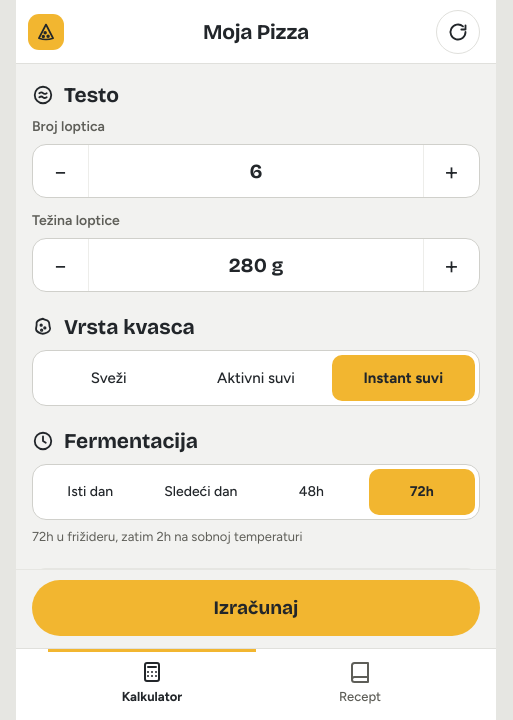
Calculator → Quantities › the back button returns to the Calculator
The width and height of the screenshot is (513, 720).
Click the button "Izračunaj" at (256, 608), box [32,580,480,636]
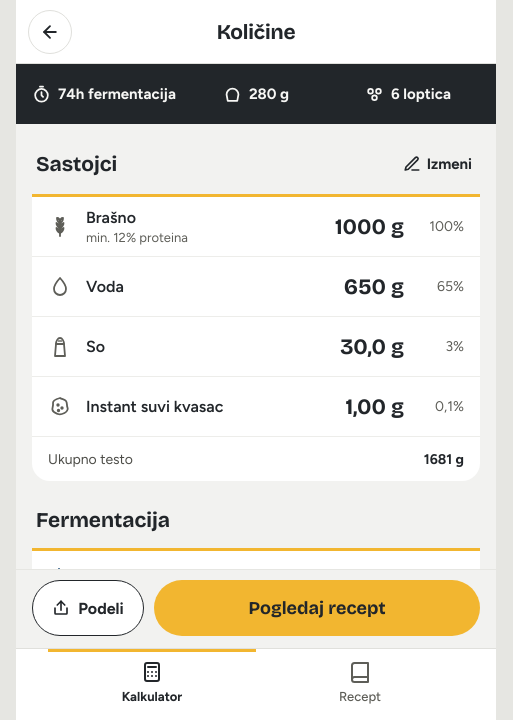
Click the link named "Nazad na kalkulator" at (50, 32), box [28,10,72,54]
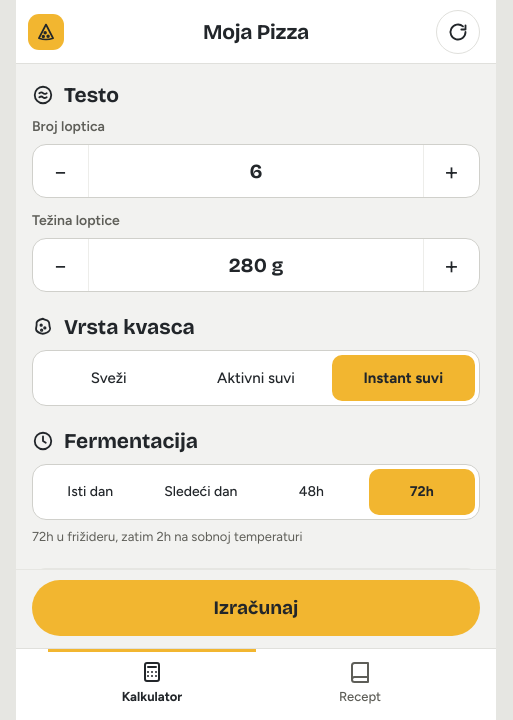
Expected: the button "Izračunaj" is shown, [32,580,480,636]
